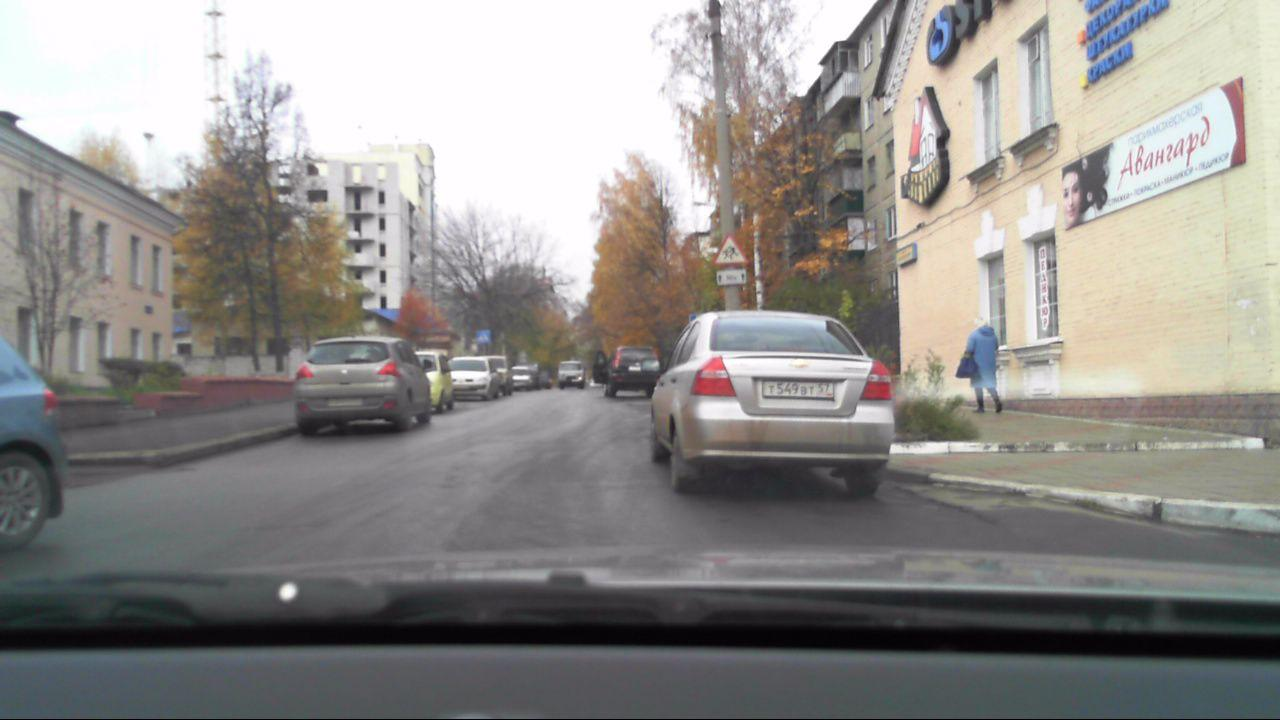1_23: (714, 231, 744, 263)
8_2_1: (717, 270, 748, 286)
